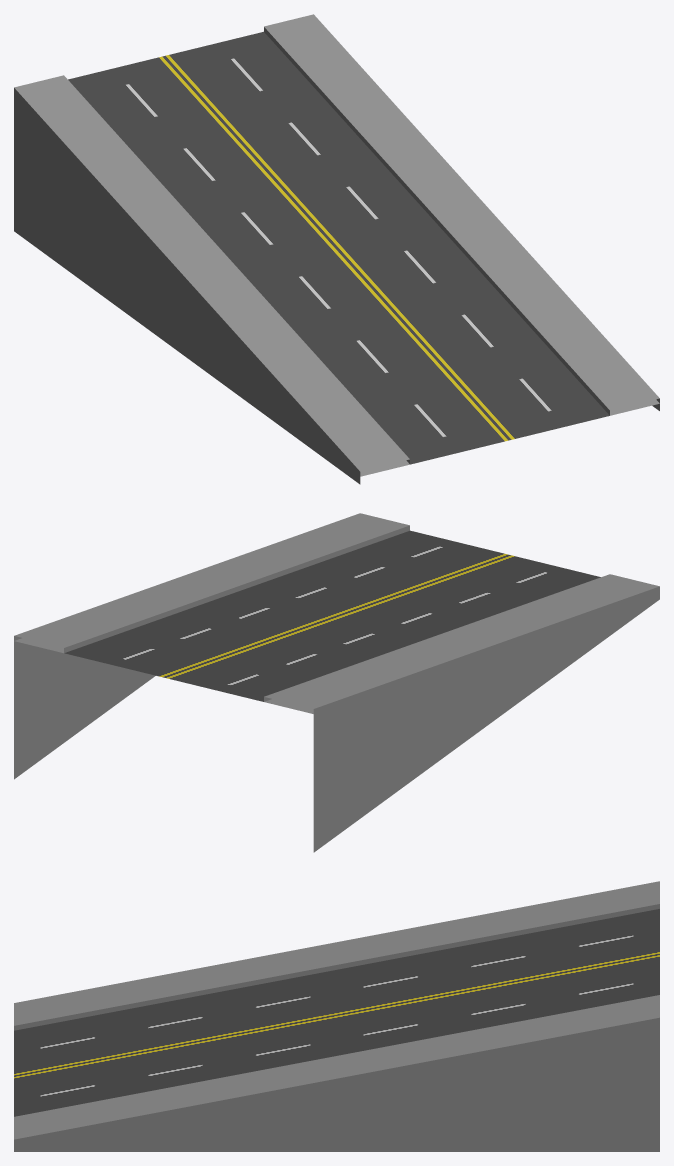
The picture shows the model from 3 angles, top to bottom: view 1: azimuth 30°, elevation 25°; view 2: azimuth 150°, elevation 25°; view 3: azimuth 270°, elevation 25°; orthographic projection. The views are drawn at different scales.
Parts seen in each view (by area): view 1: Model_0; view 2: Model_0, Skybox; view 3: Model_0.
Boxes of the visible parts, bbox=[...] form: Model_0: bbox=[14, 14, 659, 484]; Model_0: bbox=[14, 513, 659, 852]; Skybox: bbox=[14, 638, 313, 713]; Model_0: bbox=[14, 881, 659, 1151].
Size of what is drawn, in the model's own units: 2400 by 1100 by 4800.
